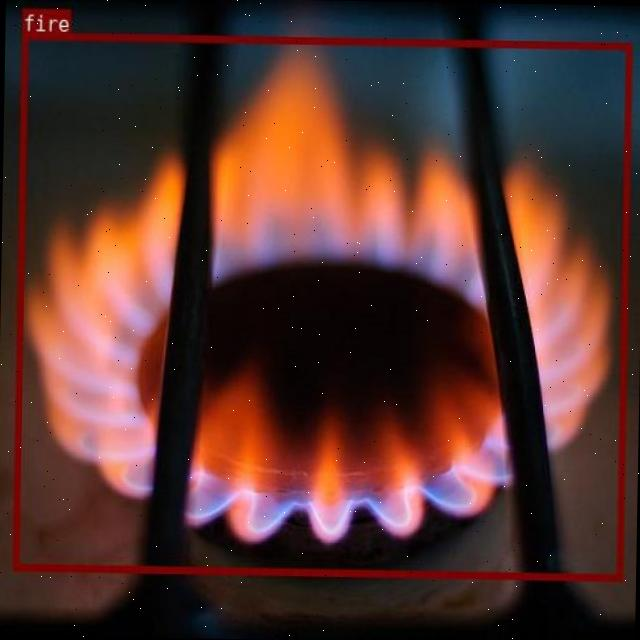fire: (12, 31, 630, 578)
